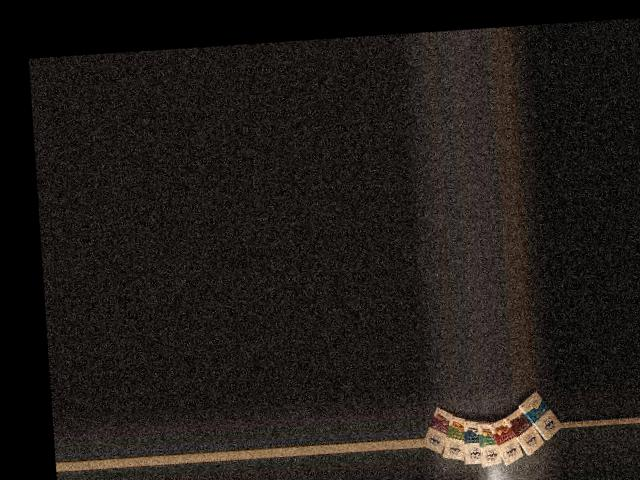chocolate: (517, 386, 561, 444)
